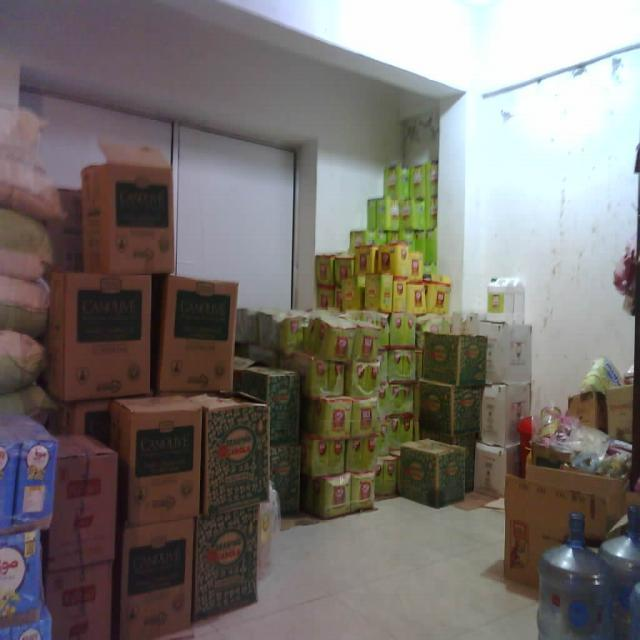cardboxes: (60, 270, 150, 400), (82, 162, 178, 274), (162, 273, 235, 397), (124, 407, 201, 522), (119, 526, 192, 636)
